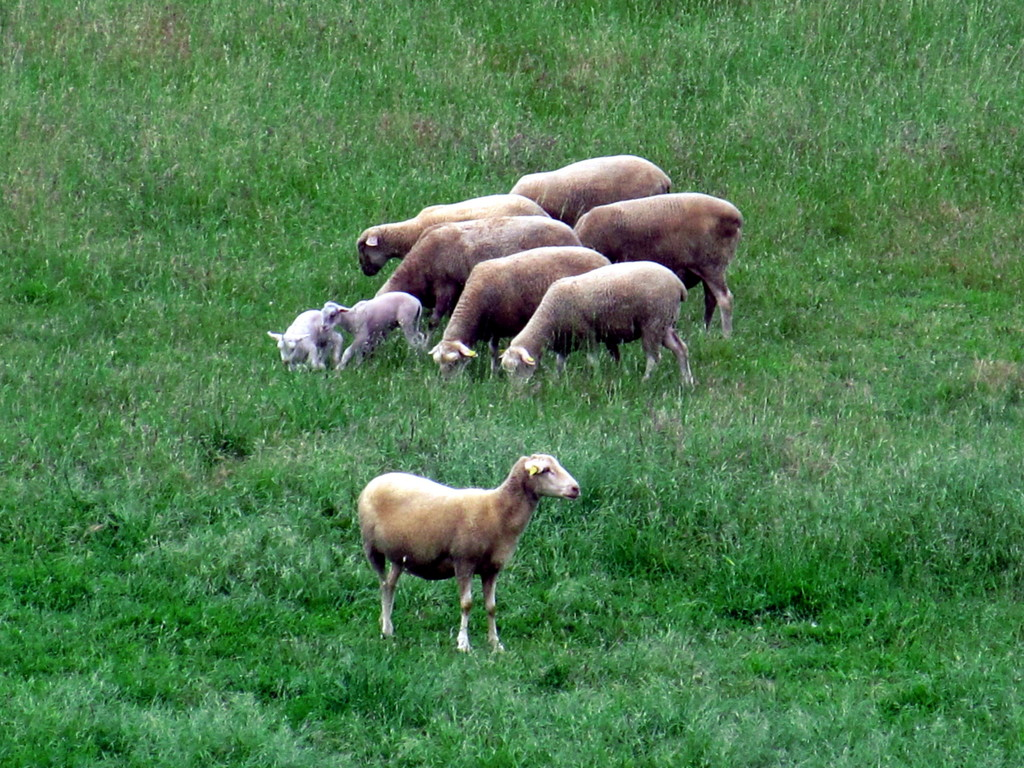sheep: (337, 453, 605, 672)
